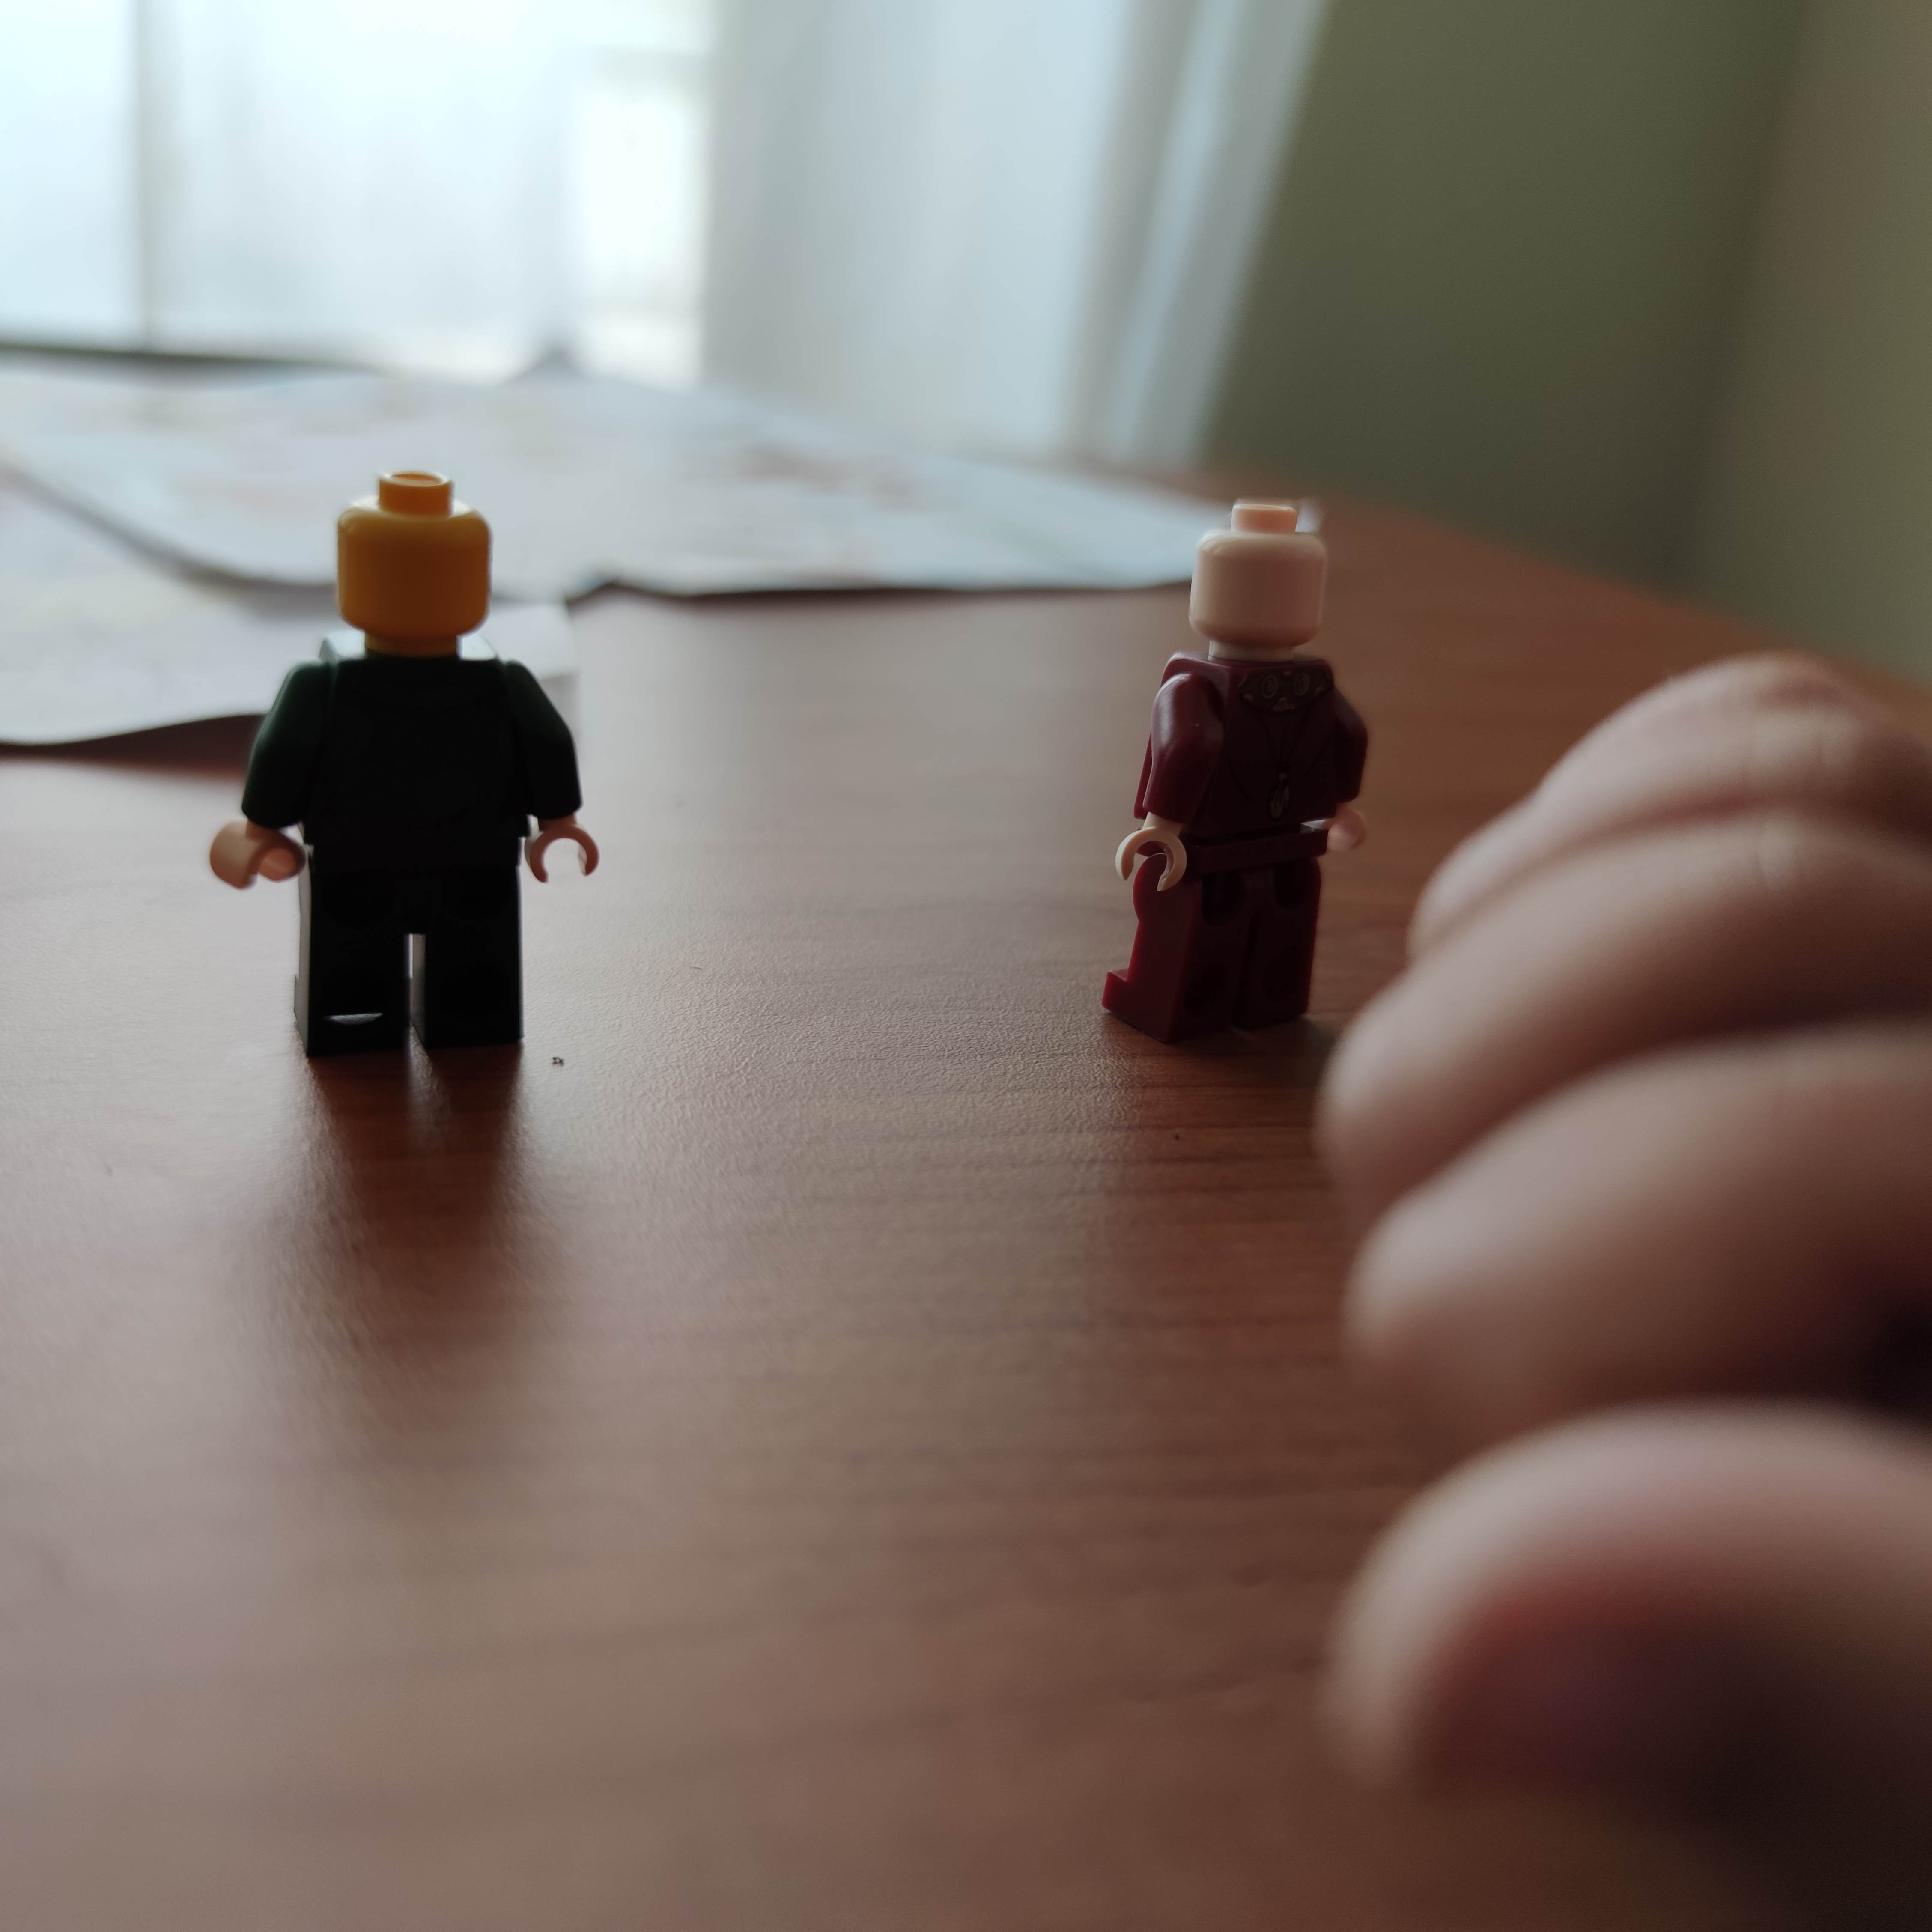lego: (209, 469, 600, 1051), (1100, 492, 1382, 1047)
